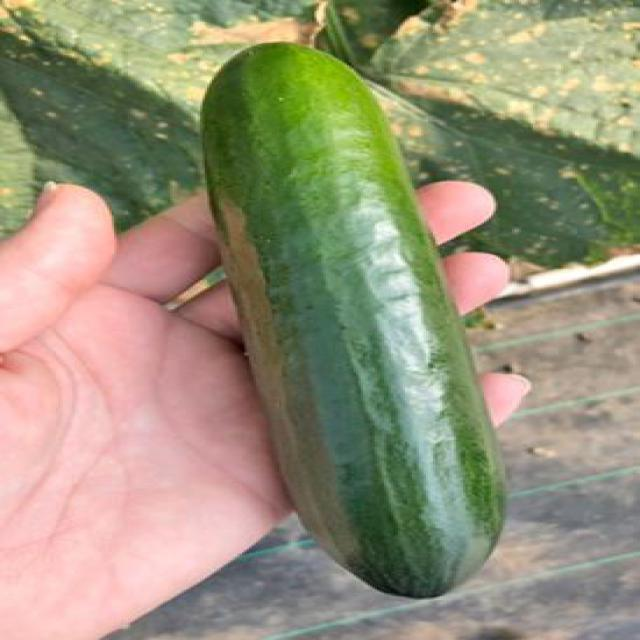cucumber: (196, 39, 514, 602)
